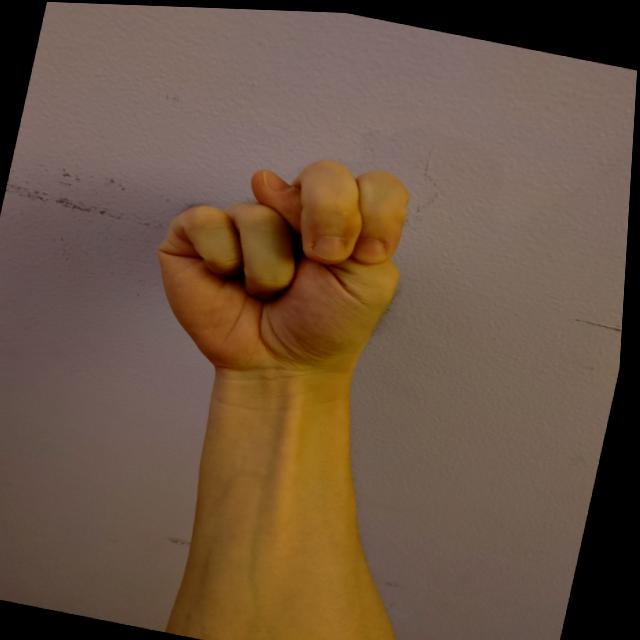N: (131, 124, 432, 404)
